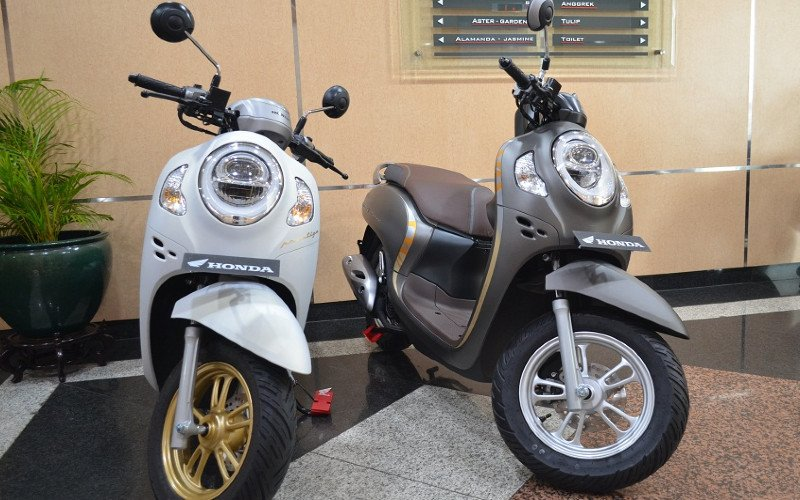motor: (367, 55, 700, 487), (114, 66, 337, 495)
